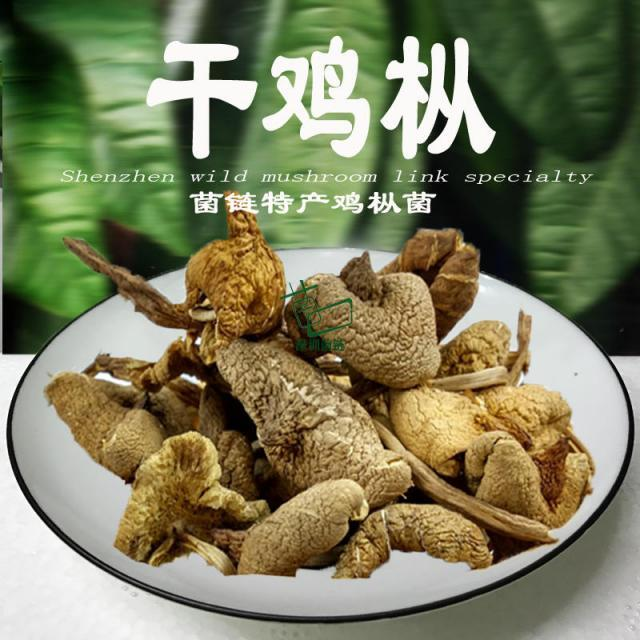Collybia albuminosa: (59, 228, 591, 571)
